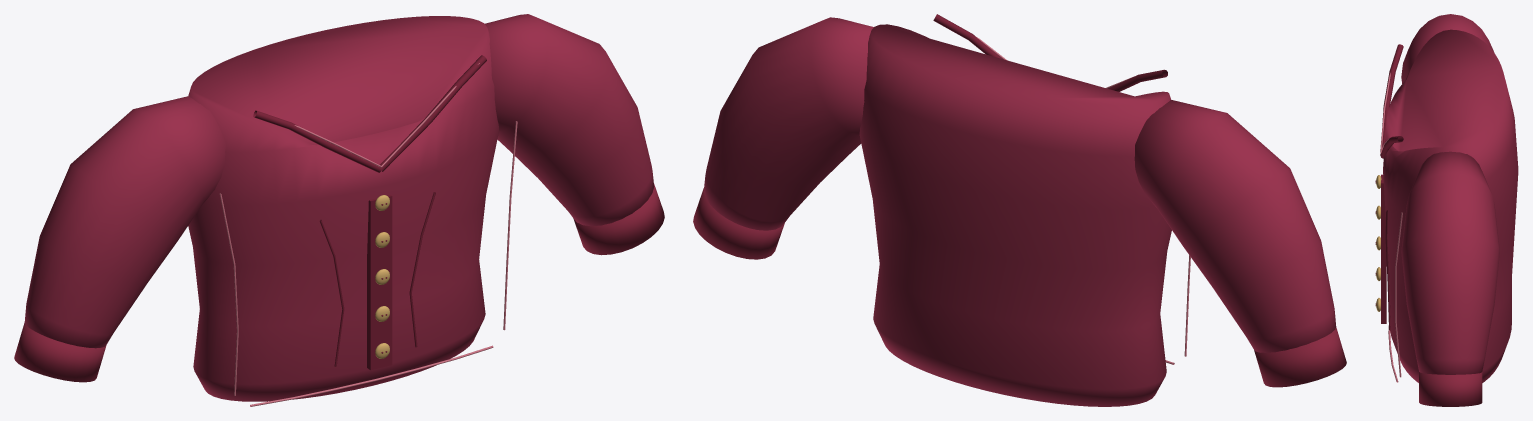
File: Blusa.glb
3 renders of one model, left to right at view 1: azimuth 30°, elevation 25°; view 2: azimuth 150°, elevation 25°; view 3: azimuth 270°, elevation 25°, orthographic. The views are drawn at different scales.
Parts seen in each view (by area): view 1: Cuerpo_Blusa, Manga_Izquierda, Manga_Derecha, Tapeta_Central, Puno_Izquierdo, Puno_Derecho, Borde_Escote_Derecho, Borde_Escote_Izquierdo, Pespunte_Dobladillo; view 2: Cuerpo_Blusa, Manga_Izquierda, Manga_Derecha, Puno_Izquierdo, Puno_Derecho, Borde_Escote_Derecho; view 3: Cuerpo_Blusa, Manga_Derecha, Puno_Derecho, Manga_Izquierda, Tapeta_Central, Borde_Escote_Izquierdo, Costura_Lateral_Derecha, Pinza_Derecha, Borde_Escote_Derecho, Pespunte_Escote.
Boxes of the visible parts, <box> form: Cuerpo_Blusa: <box>188,16,498,401</box>; Manga_Izquierda: <box>24,96,225,348</box>; Manga_Derecha: <box>485,14,654,226</box>; Tapeta_Central: <box>367,194,392,370</box>; Puno_Izquierdo: <box>14,322,106,382</box>; Puno_Derecho: <box>573,184,664,255</box>; Borde_Escote_Derecho: <box>380,55,486,171</box>; Borde_Escote_Izquierdo: <box>253,110,381,172</box>; Pespunte_Dobladillo: <box>250,345,493,406</box>; Cuerpo_Blusa: <box>859,24,1171,406</box>; Manga_Izquierda: <box>1134,100,1336,352</box>; Manga_Derecha: <box>703,17,873,230</box>; Puno_Izquierdo: <box>1254,327,1346,387</box>; Puno_Derecho: <box>693,188,784,259</box>; Borde_Escote_Derecho: <box>933,14,1002,58</box>; Cuerpo_Blusa: <box>1383,29,1518,382</box>; Manga_Derecha: <box>1401,151,1499,374</box>; Puno_Derecho: <box>1419,372,1482,406</box>; Manga_Izquierda: <box>1401,14,1494,83</box>; Tapeta_Central: <box>1381,174,1386,323</box>; Borde_Escote_Izquierdo: <box>1380,44,1403,154</box>; Costura_Lateral_Derecha: <box>1395,212,1402,377</box>; Pinza_Derecha: <box>1385,210,1390,330</box>; Borde_Escote_Derecho: <box>1380,136,1403,158</box>; Pespunte_Escote: <box>1380,72,1396,153</box>.
Size of the model in its own units: 1.91 by 0.86 by 0.443.
